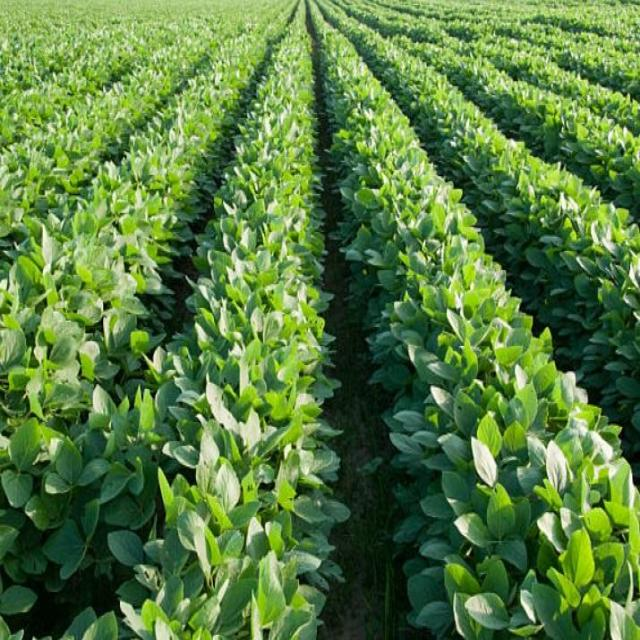row: (314, 48, 448, 639)
